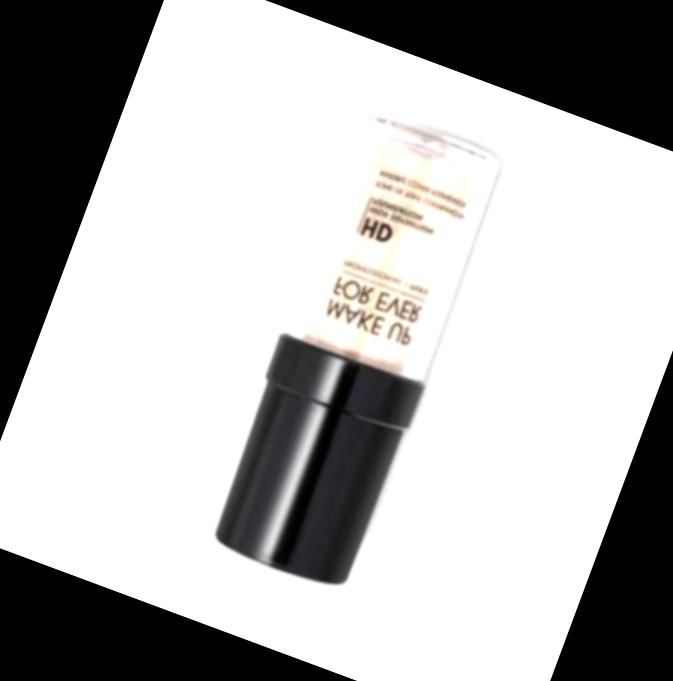cosmetic: (197, 102, 512, 596)
